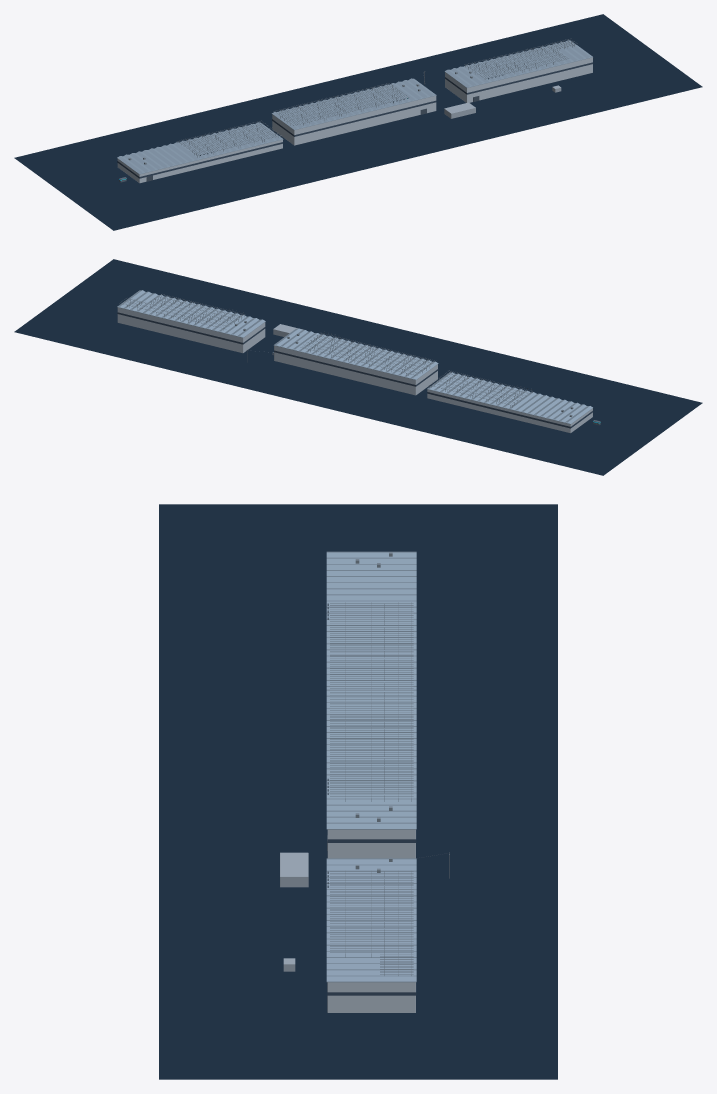
Rendered from factory.glb.
3 renders of one model, top to bottom at view 1: azimuth 30°, elevation 25°; view 2: azimuth 150°, elevation 25°; view 3: azimuth 270°, elevation 25°, orthographic. The views are drawn at different scales.
Visible parts, largest first — view 1: ground, building_roof, building_roof_2, building_roof_3, building_walls_2, building_walls_3, rack_2, building_walls, rack_3, rack, building_band, building_band_2 (+2 smaller); view 2: ground, building_roof, building_roof_2, building_roof_3, building_walls_2, building_walls_3, building_walls, rack_2, rack_3, rack, building_band, building_band_2 (+1 smaller); view 3: ground, building_roof_2, building_roof, building_roof_3, rack_2, rack_3, rack, building_walls_3, building_walls_2, aux_canteen.
Part boxes in pixels (left/top/right/bottom): ground: left=14, top=14, right=702, bottom=230; building_roof: left=117, top=122, right=283, bottom=174; building_roof_2: left=271, top=78, right=436, bottom=130; building_roof_3: left=444, top=40, right=592, bottom=87; building_walls_2: left=272, top=96, right=436, bottom=145; building_walls_3: left=445, top=57, right=592, bottom=102; rack_2: left=273, top=83, right=409, bottom=125; building_walls: left=117, top=139, right=282, bottom=183; rack_3: left=464, top=38, right=578, bottom=79; rack: left=177, top=120, right=281, bottom=157; building_band: left=117, top=142, right=282, bottom=178; building_band_2: left=272, top=100, right=436, bottom=136; ground: left=14, top=259, right=702, bottom=475; building_roof: left=427, top=372, right=592, bottom=424; building_roof_2: left=274, top=328, right=438, bottom=379; building_roof_3: left=117, top=290, right=265, bottom=337; building_walls_2: left=274, top=345, right=437, bottom=395; building_walls_3: left=117, top=307, right=265, bottom=353; building_walls: left=427, top=389, right=592, bottom=433; rack_2: left=300, top=333, right=435, bottom=375; rack_3: left=119, top=294, right=244, bottom=330; rack: left=429, top=370, right=532, bottom=407; building_band: left=427, top=392, right=592, bottom=428; building_band_2: left=274, top=350, right=438, bottom=386; ground: left=159, top=504, right=557, bottom=1079; building_roof_2: left=326, top=689, right=416, bottom=829; building_roof: left=326, top=551, right=416, bottom=689; building_roof_3: left=326, top=858, right=416, bottom=982; rack_2: left=330, top=684, right=413, bottom=801; rack_3: left=330, top=870, right=413, bottom=975; rack: left=330, top=602, right=413, bottom=684; building_walls_3: left=327, top=982, right=415, bottom=1012; building_walls_2: left=327, top=829, right=415, bottom=858; aux_canteen: left=280, top=852, right=308, bottom=887.
Size of the model in its own units: 573 by 18.55 by 168.
